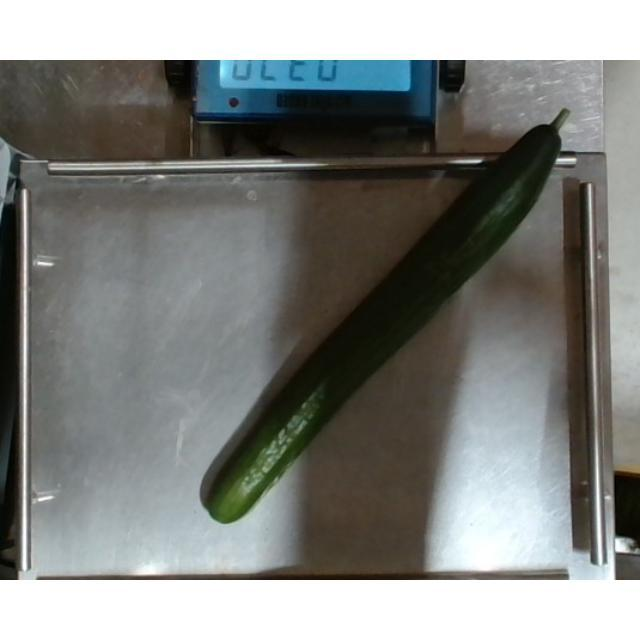cucumber: (208, 106, 570, 520)
